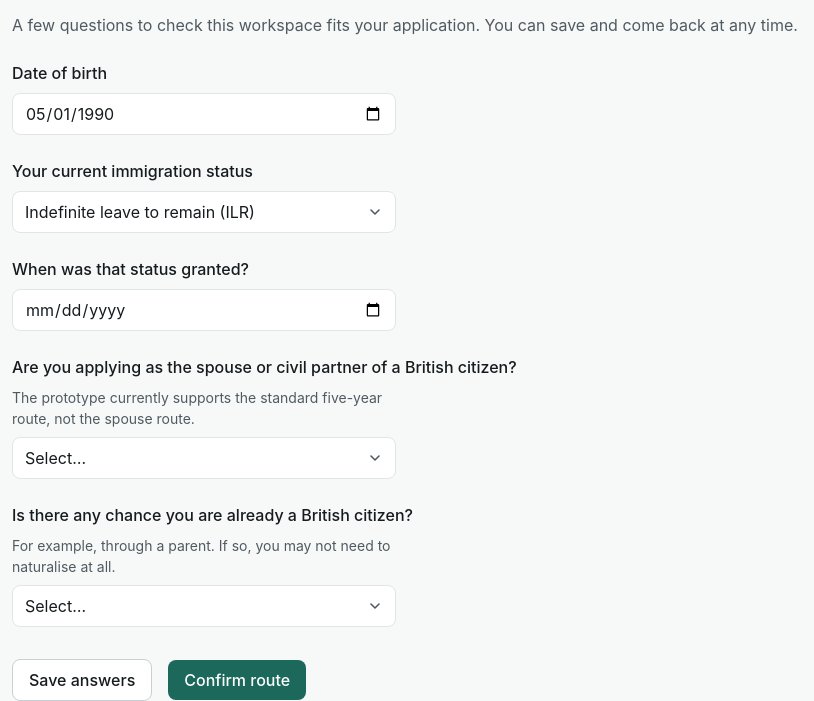
it: RouteOnboarding › reports missing answers when confirming an incomplete profile
(page scrolled)
Click the button "Confirm route" at (237, 680), box [168,660,306,700]
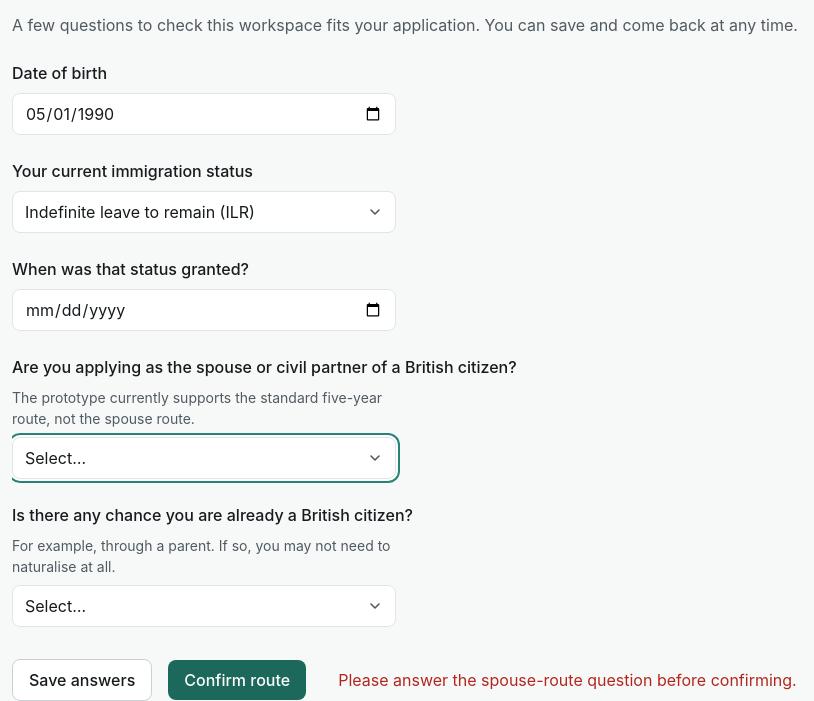
Result: the message shows "spouse-route question" at [452,670,652,690]
